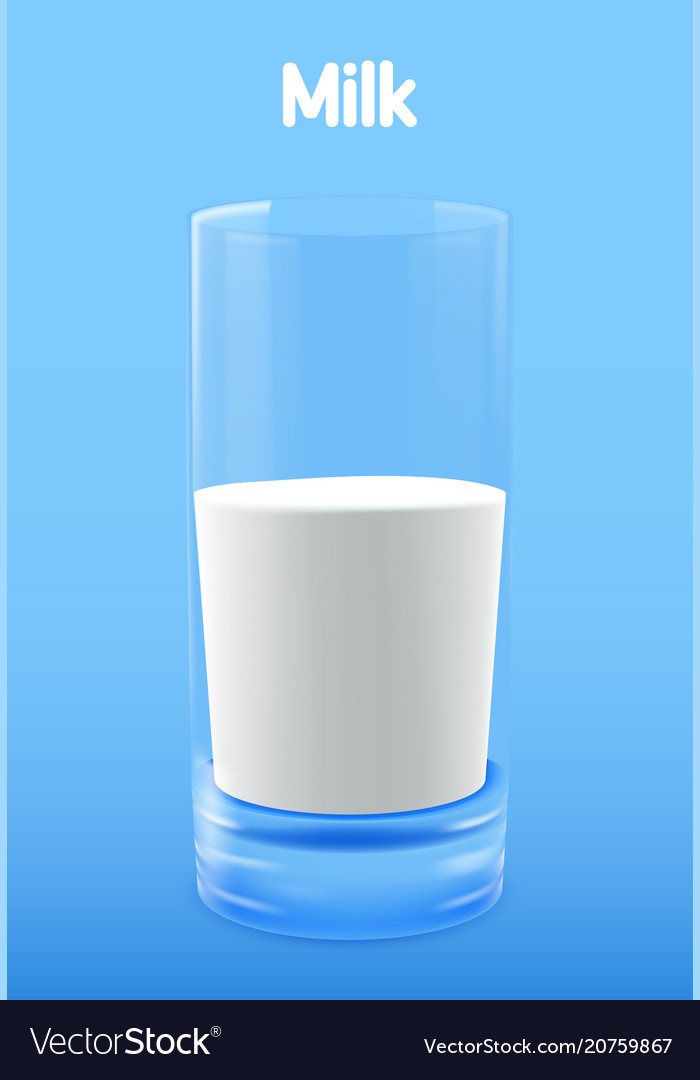glass of milk: (195, 303, 504, 838)
